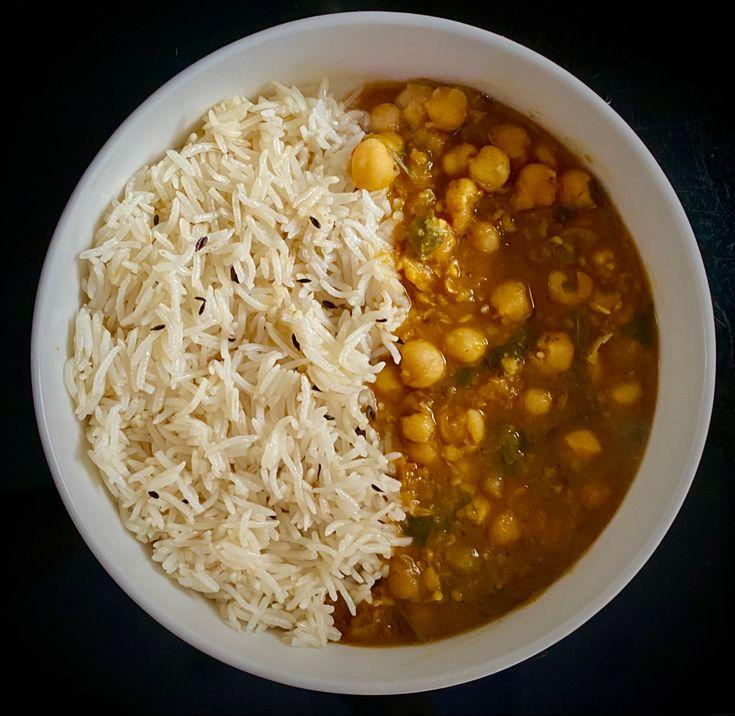chole: (402, 114, 631, 562)
rice: (100, 92, 375, 580)
